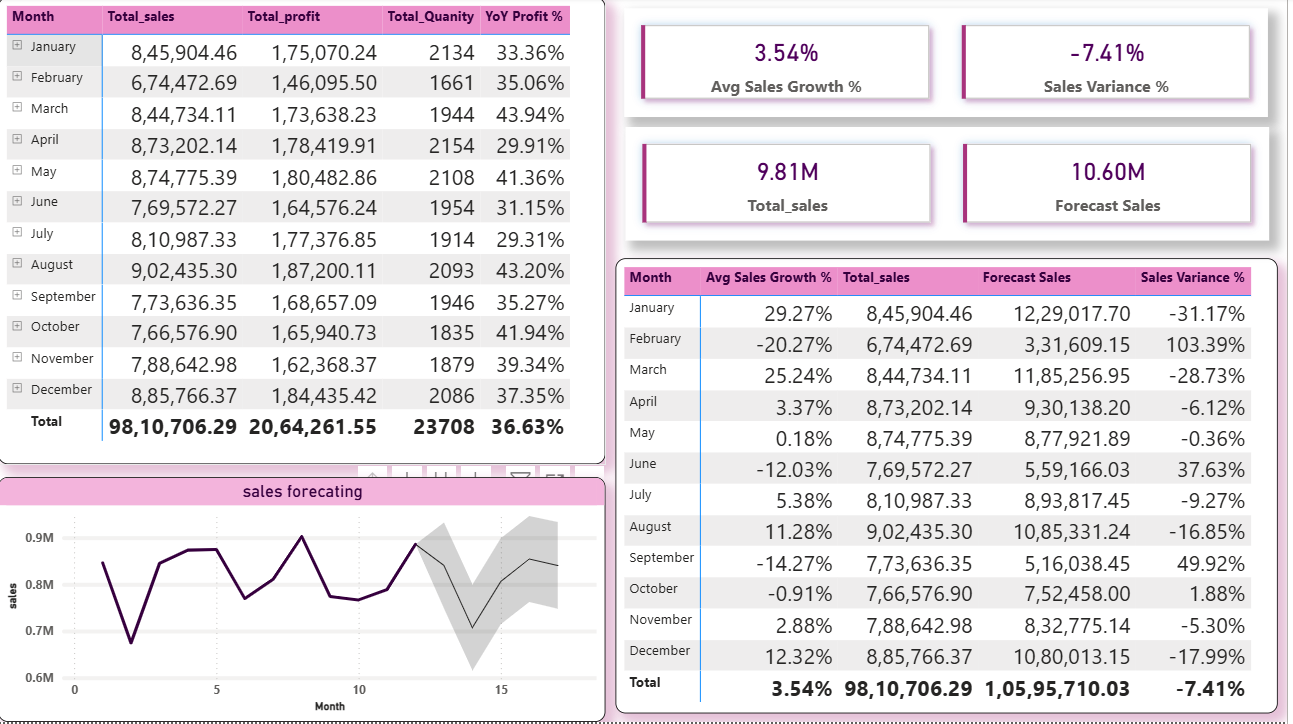

Layout of this report page (visuals, bound fields, positions):
{"tool":"powerbi","page":{"name":"forcast","canvas":[1280,720],"ordinal":3},"visuals":[{"type":"pivotTable","fields":{"Rows":["DimDate.Date.Variation.Date Hierarchy.Month","DimStore.City"],"Values":["measures (2).Total_sales","measures (2).Total_profit","measures (2).Total_Quanity","measures (2).YoY Profit %"]},"box":[0,0,603.3,464.2],"z":0},{"type":"lineChart","title":"sales forecating","fields":{"Y":["Sum(FactSales.SalesAmount)"],"Category":["DimDate.month","DimDate.Date.Variation.Date Hierarchy.Month"]},"box":[0,476.7,603.3,243.3],"z":1000},{"type":"cardVisual","fields":{"Data":["measures (2).Avg Sales Growth %","measures (2).Sales Variance %"]},"box":[621.9,11.2,639.3,108],"z":3000},{"type":"pivotTable","fields":{"Rows":["DimDate.Date.Variation.Date Hierarchy.Month"],"Values":["measures (2).Avg Sales Growth %","measures (2).Total_sales","measures (2).Forecast Sales","measures (2).Sales Variance %"]},"box":[613.2,259.4,657.9,451.8],"z":3001},{"type":"cardVisual","fields":{"Data":["measures (2).Total_sales","measures (2).Forecast Sales"]},"box":[623.1,129.1,639.3,113],"z":3002}]}

Visuals, with their boxes in screenshot pixels (x1, y1, x2, y2), scaled from the page's 1280x720 canvas onto the 1293x724 screenshot:
pivotTable - DimDate.Date.Variation.Date Hierarchy.Month x DimStore.City: 0:0:609:467
"sales forecating" lineChart: 0:479:609:723
cardVisual - measures (2).Avg Sales Growth % x measures (2).Sales Variance %: 628:11:1274:120
pivotTable - DimDate.Date.Variation.Date Hierarchy.Month x measures (2).Avg Sales Growth %: 619:261:1284:715
cardVisual - measures (2).Total_sales x measures (2).Forecast Sales: 629:130:1275:243
